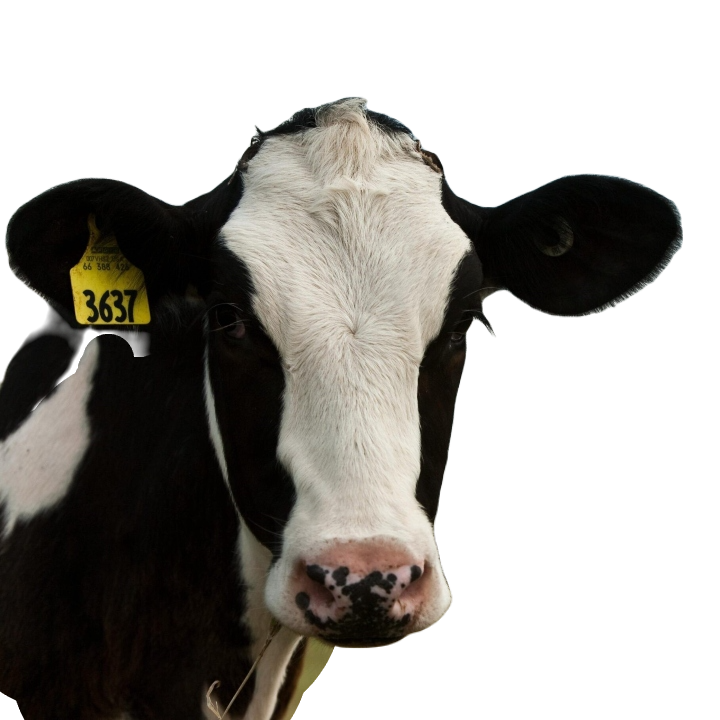Cow: (3, 97, 687, 716)
